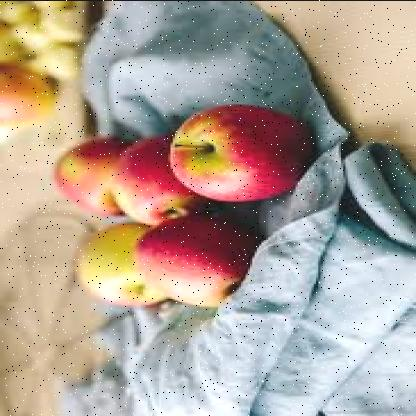apple: (175, 103, 318, 207), (136, 218, 254, 301), (118, 132, 220, 222), (46, 132, 136, 216), (73, 222, 159, 304)
